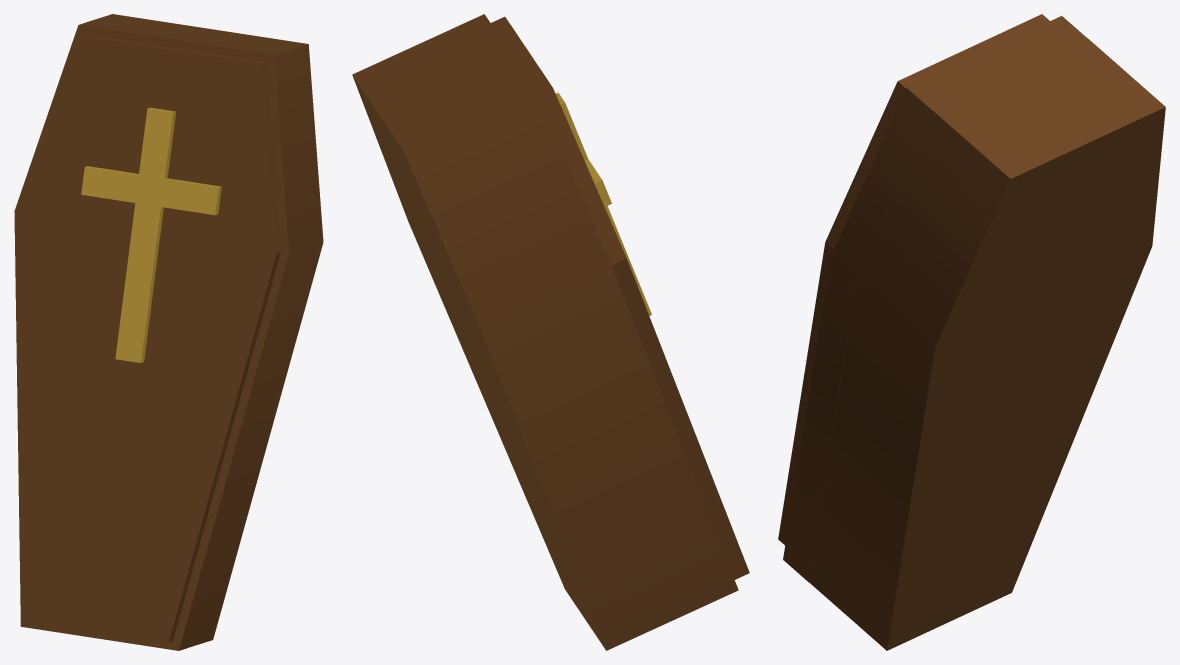
The model's file is Coffin.gltf.
3 views of the same model, side by side, from view 1: azimuth 30°, elevation 25°; view 2: azimuth 150°, elevation 25°; view 3: azimuth 270°, elevation 25° (orthographic). The views are drawn at different scales.
Parts seen in each view (by area): view 1: Coffin; view 2: Coffin; view 3: Coffin.
Part boxes in pixels (bbox=[...]): Coffin: bbox=[14, 14, 323, 650]; Coffin: bbox=[352, 14, 749, 650]; Coffin: bbox=[778, 14, 1165, 650].
Bounding box in the file's own units: 0.7492 × 1.2 × 0.6929.
